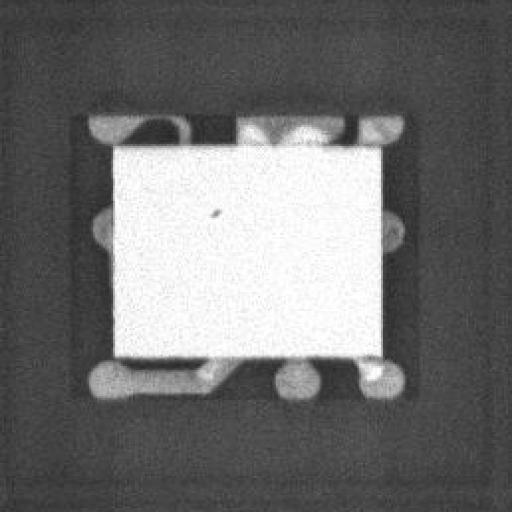DIE_INK: (196, 212, 212, 230)
